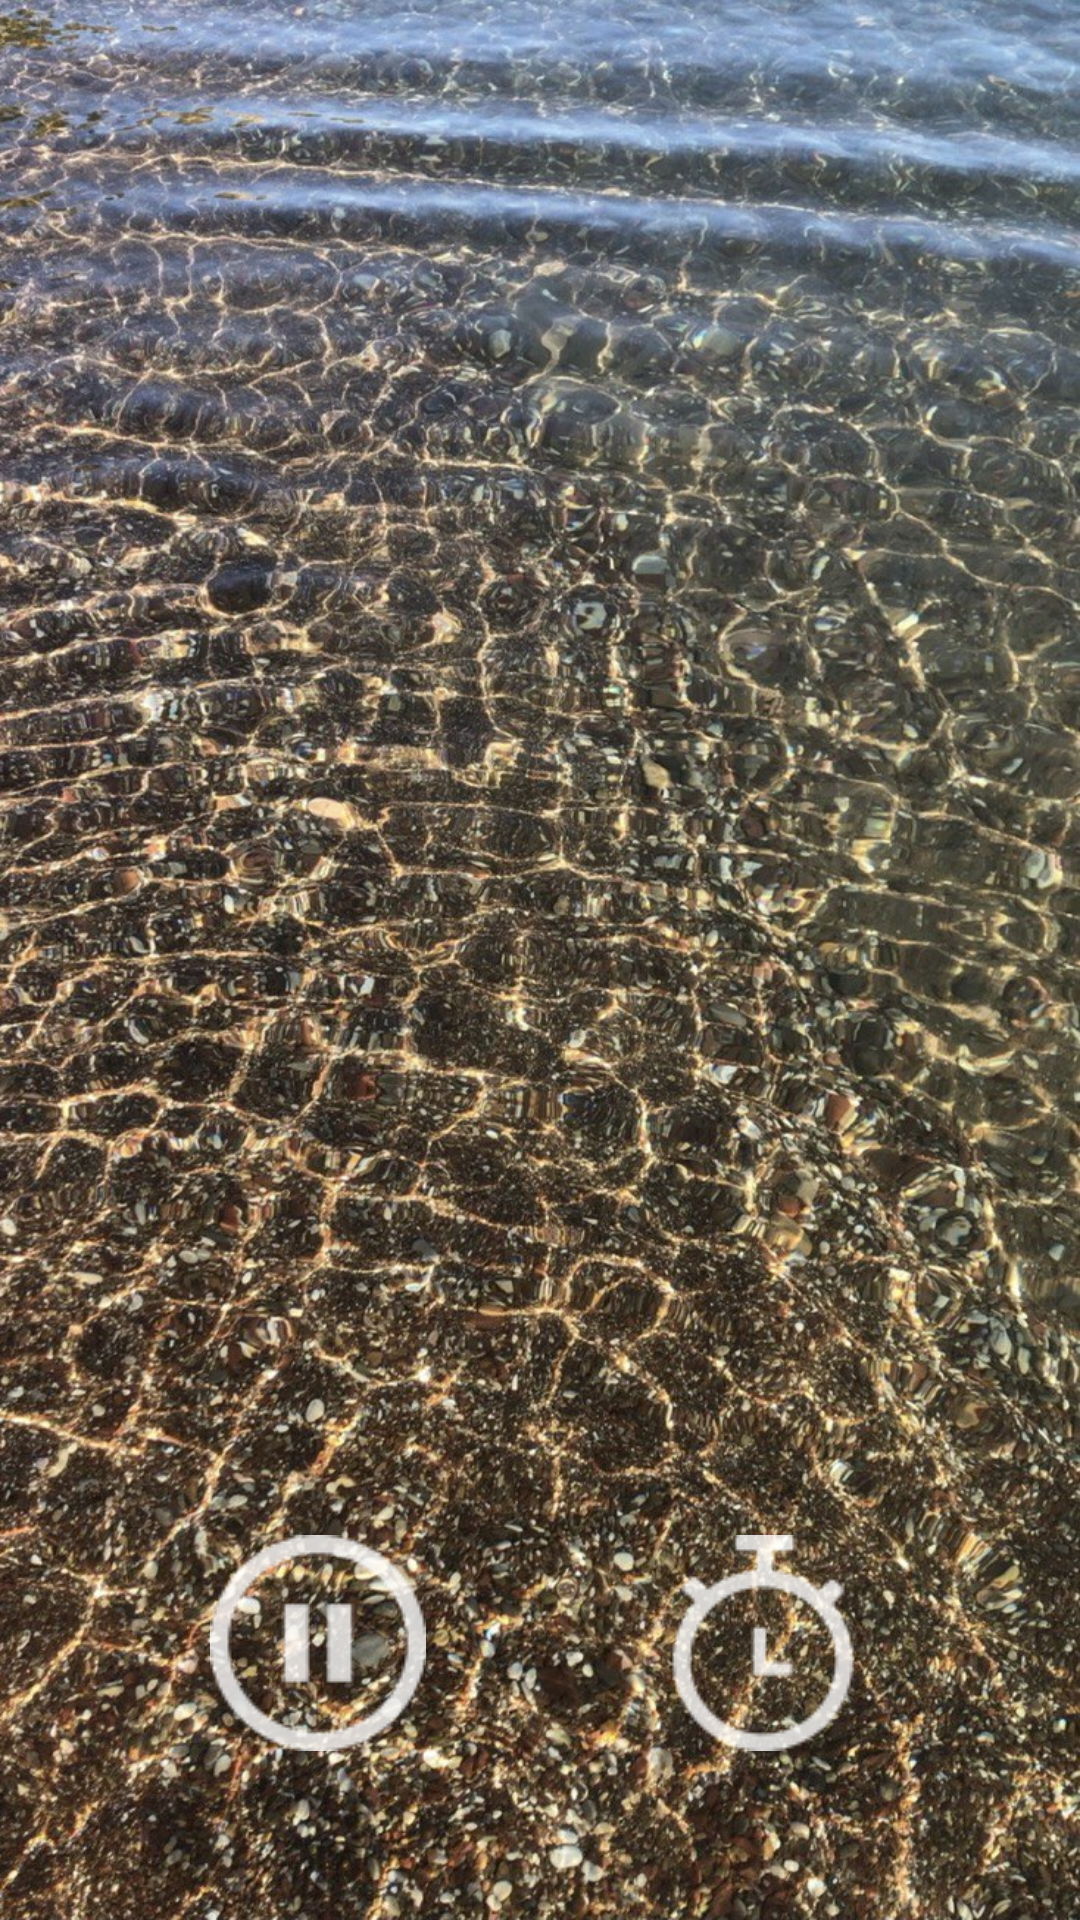

Screen size 1080px×1920px. Icon name, then its center in pixels as (x,y):
pause: (317,1642)
timer: (762,1642)
